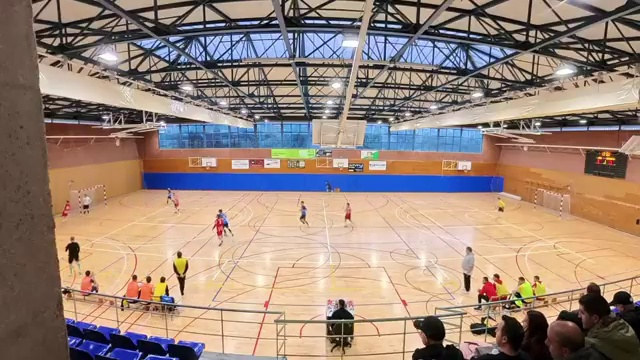players blue shirt: (219, 209, 233, 235), (167, 188, 178, 212), (168, 188, 179, 212), (299, 202, 308, 224)
players red shirt: (214, 213, 223, 243), (168, 188, 179, 212), (345, 203, 351, 223), (62, 201, 69, 216)
